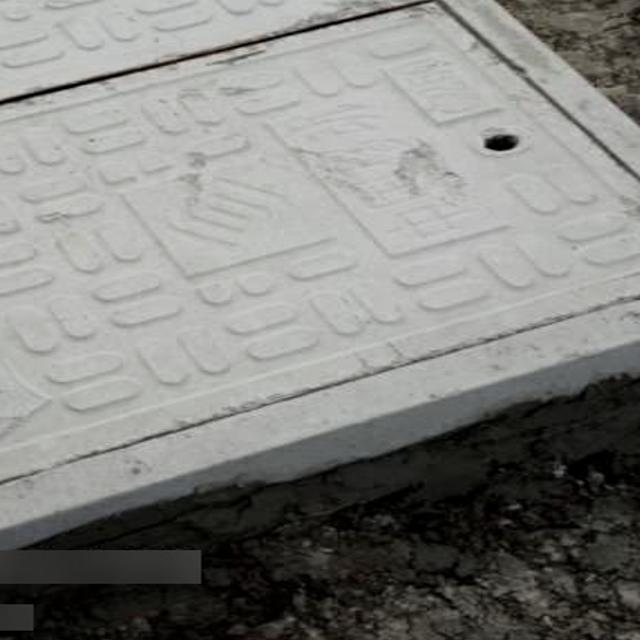good: (0, 0, 640, 550)
